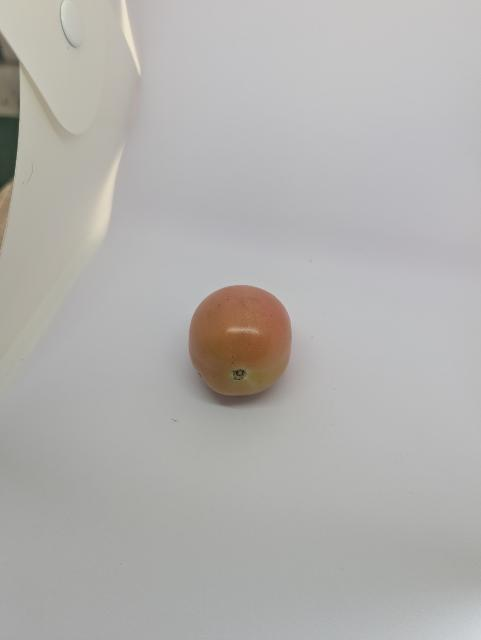turning: (184, 279, 296, 402)
